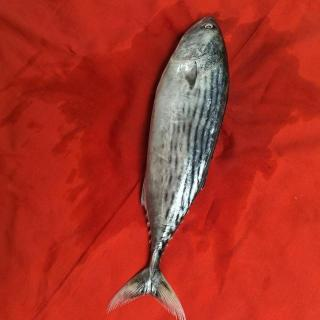Ikan: (118, 13, 238, 313)
